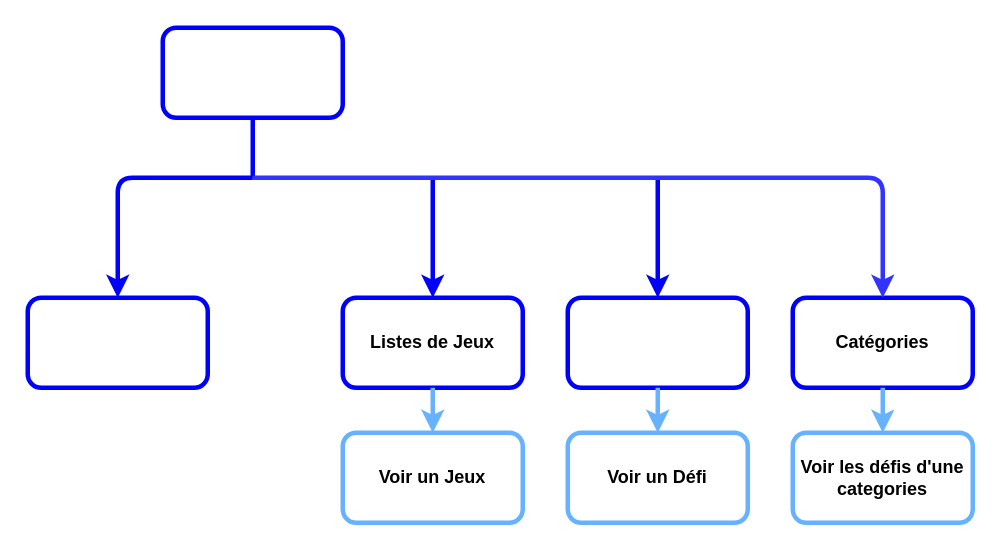
The diagram is 1001 pixels wide and 551 high, and some of its shapes have lost their labels. Here are the shapes that lost their labels. From the top down, the centre of each, then its label:
At pixel 252 72: "Acceuil".
At pixel 117 342: "Profil (Admin/Utilisateur)".
At pixel 657 342: "Défis".
